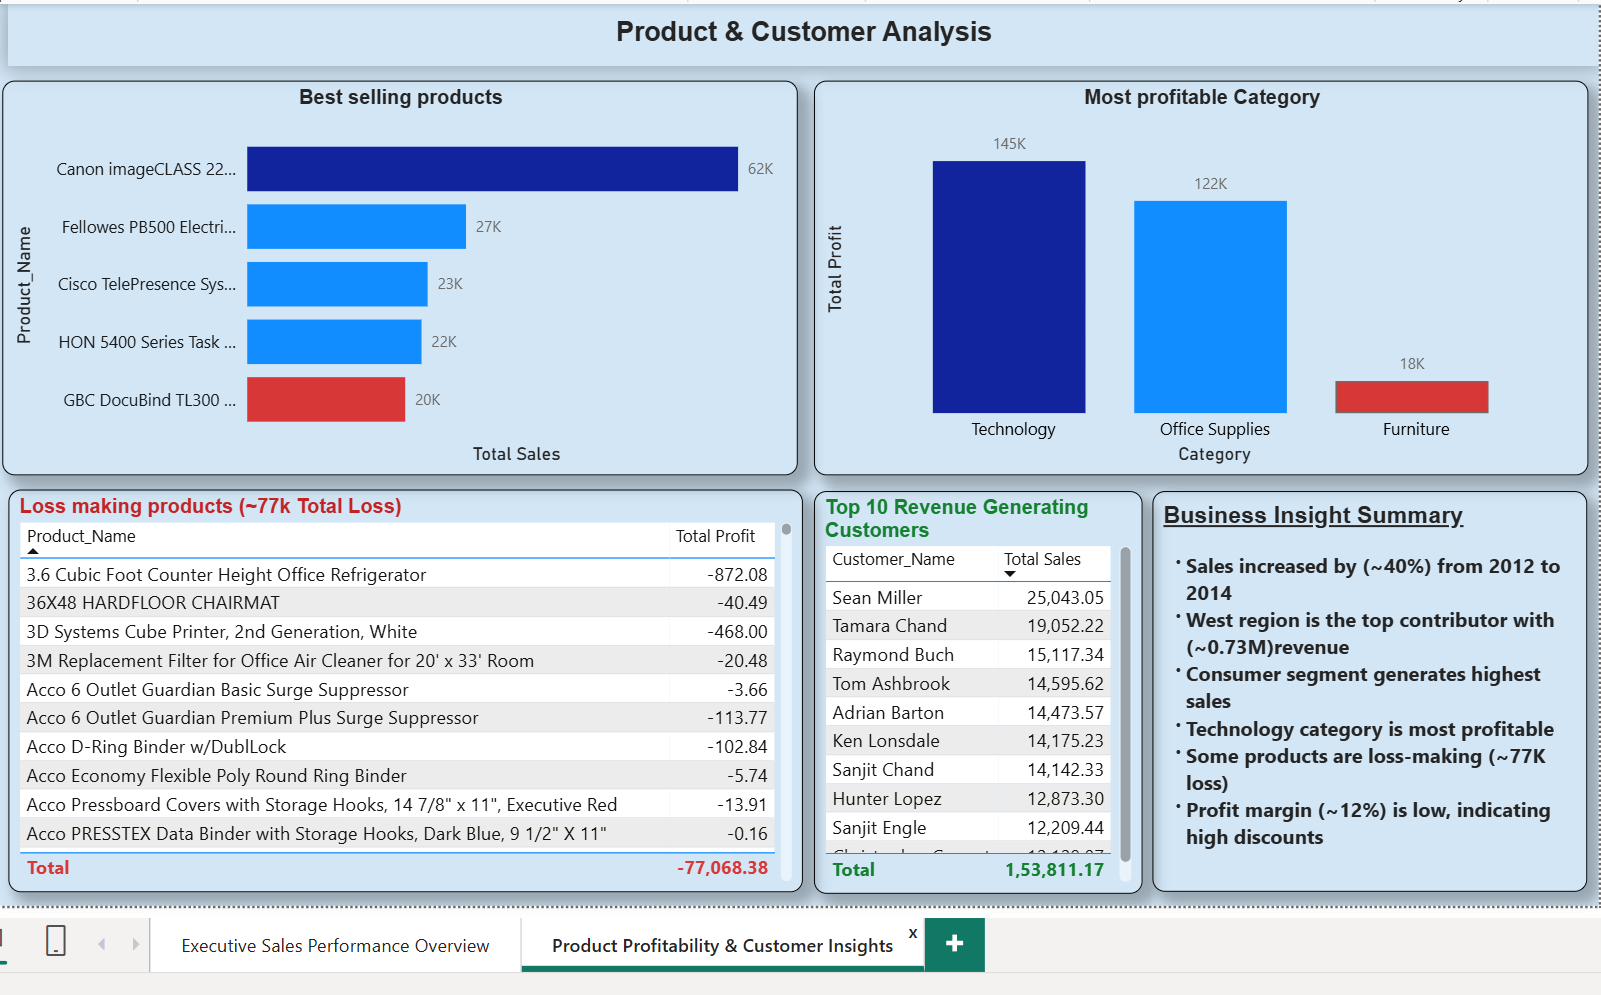

The dashboard page shown, as its layout file describes it:
{"tool":"powerbi","page":{"name":"Product Profitability & Customer Insights","canvas":[1280,720],"ordinal":1},"visuals":[{"type":"textbox","box":[9.6,0,1270.7,49.4],"z":0},{"type":"barChart","title":"Best selling products","fields":{"Category":["Superstore_Sales.Product_Name"],"Y":["Superstore_Sales.Total Sales"]},"box":[9.8,61.1,634.7,315.5],"z":1000},{"type":"columnChart","title":"Most profitable Category","fields":{"Category":["Superstore_Sales.Category"],"Y":["Superstore_Sales.Total Profit"]},"box":[653,61.1,618.8,315.5],"z":2000},{"type":"tableEx","title":"Loss making products","fields":{"Values":["Superstore_Sales.Product_Name","Superstore_Sales.Total Profit"]},"box":[9.8,387.6,634.7,321.6],"z":3000},{"type":"tableEx","title":"Top customers 10","fields":{"Values":["Superstore_Sales.Customer_Name","Superstore_Sales.Total Sales"]},"box":[653,388.9,250.7,321.6],"z":4000},{"type":"textbox","box":[915.9,387.6,355.8,321.6],"z":5000}]}

Visuals, with their boxes on the page's 1280x720 design canvas (x1, y1, x2, y2). These are canvas units, not pixel positions in the 1601x995 screenshot, which may show the page scaled, cropped or inside an application window:
textbox: BBox(10, 0, 1280, 49)
"Best selling products" barChart: BBox(10, 61, 644, 377)
"Most profitable Category" columnChart: BBox(653, 61, 1272, 377)
"Loss making products" tableEx: BBox(10, 388, 644, 709)
"Top customers 10" tableEx: BBox(653, 389, 904, 710)
textbox: BBox(916, 388, 1272, 709)
